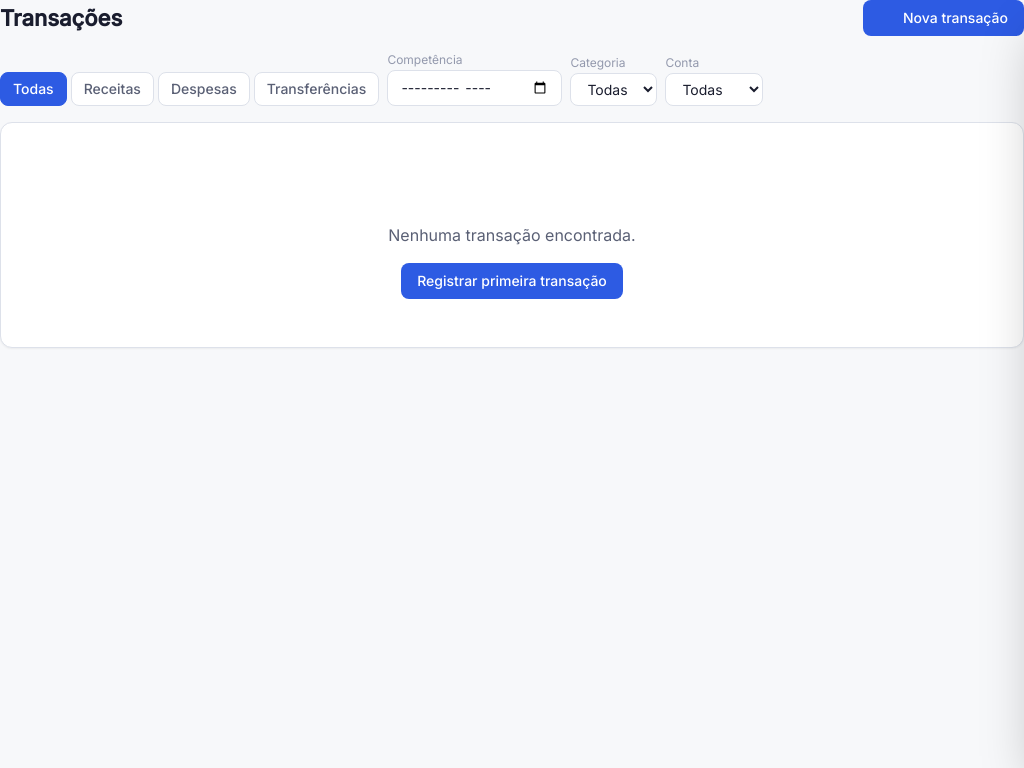
Transacoes › nova transação › sem categorias cadastradas, pede uma categoria
Click the button "Nova transação" at x=944, y=18, box [863,0,1023,36]
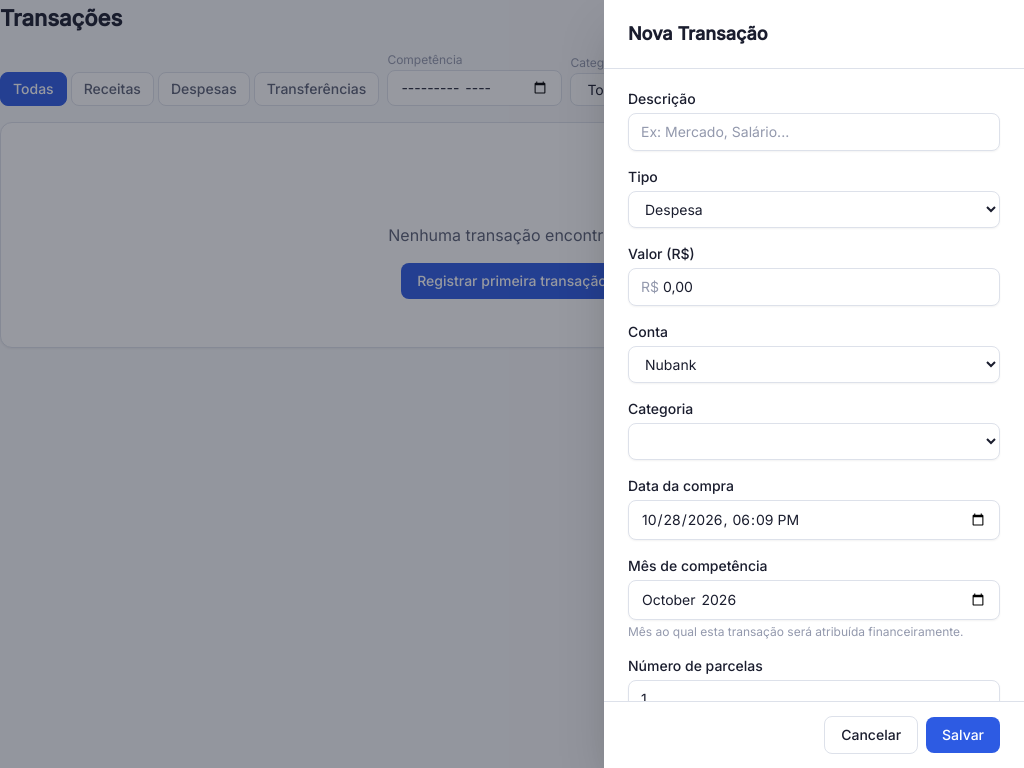
Type "Padaria" into the field labelled "Descrição" at x=814, y=132, box [628,113,1000,151]
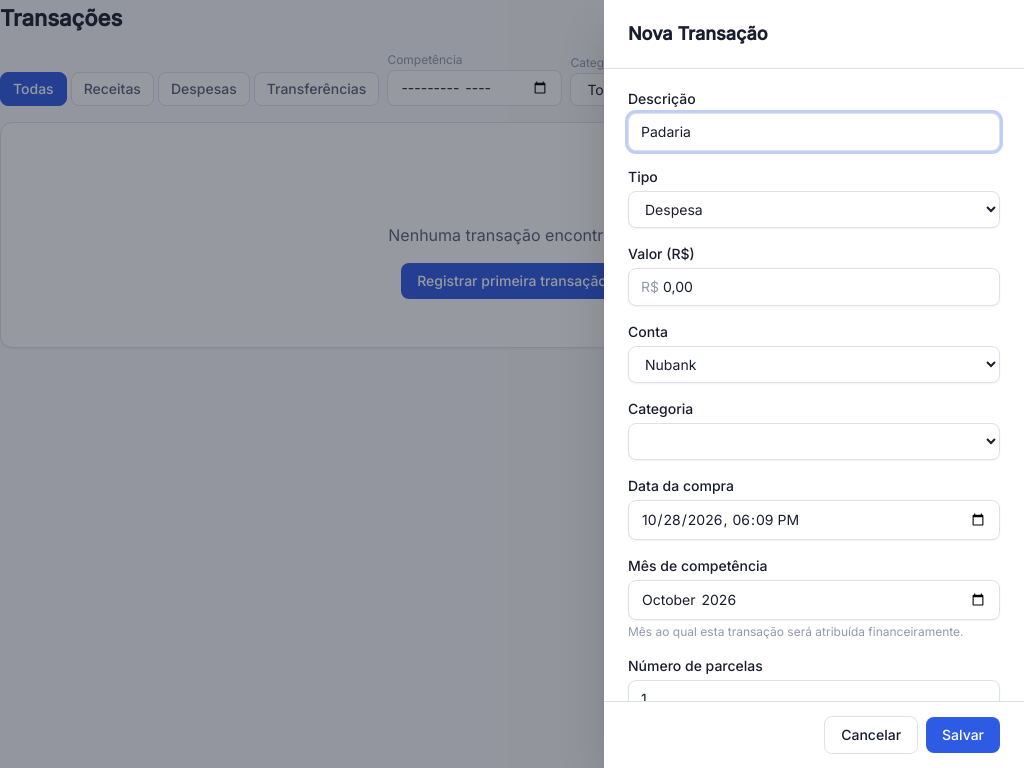
Click the button "Salvar" at x=963, y=735, box [926,717,1000,753]
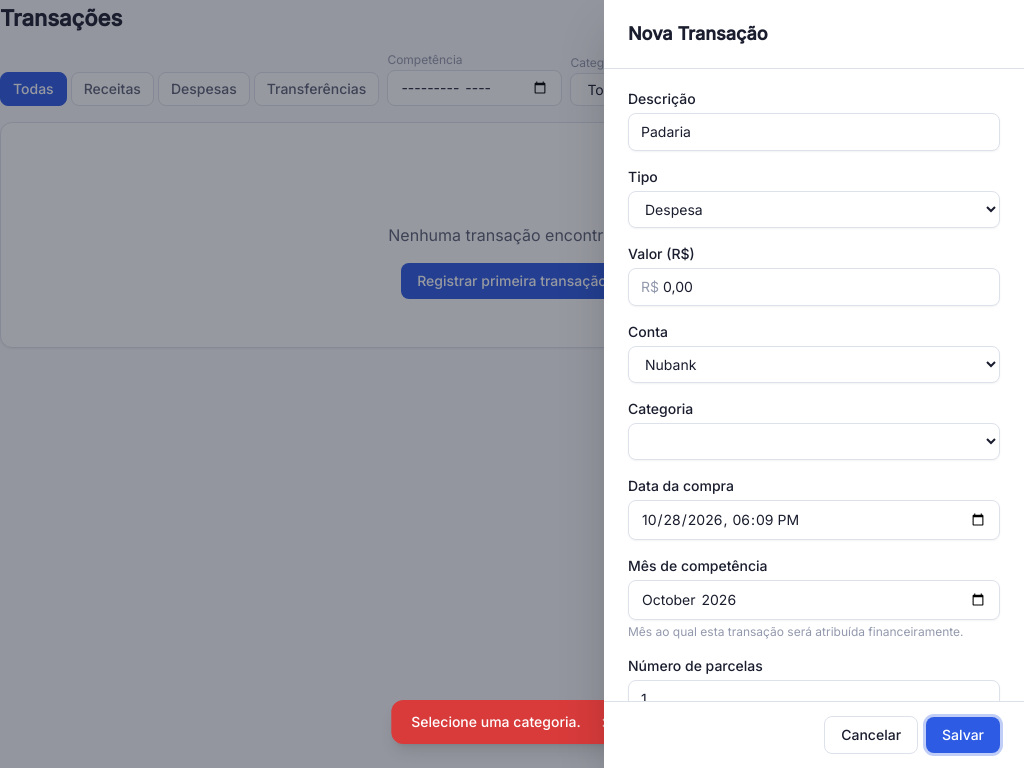
Now the text "Selecione uma categoria." is shown, box [411,712,581,732]
